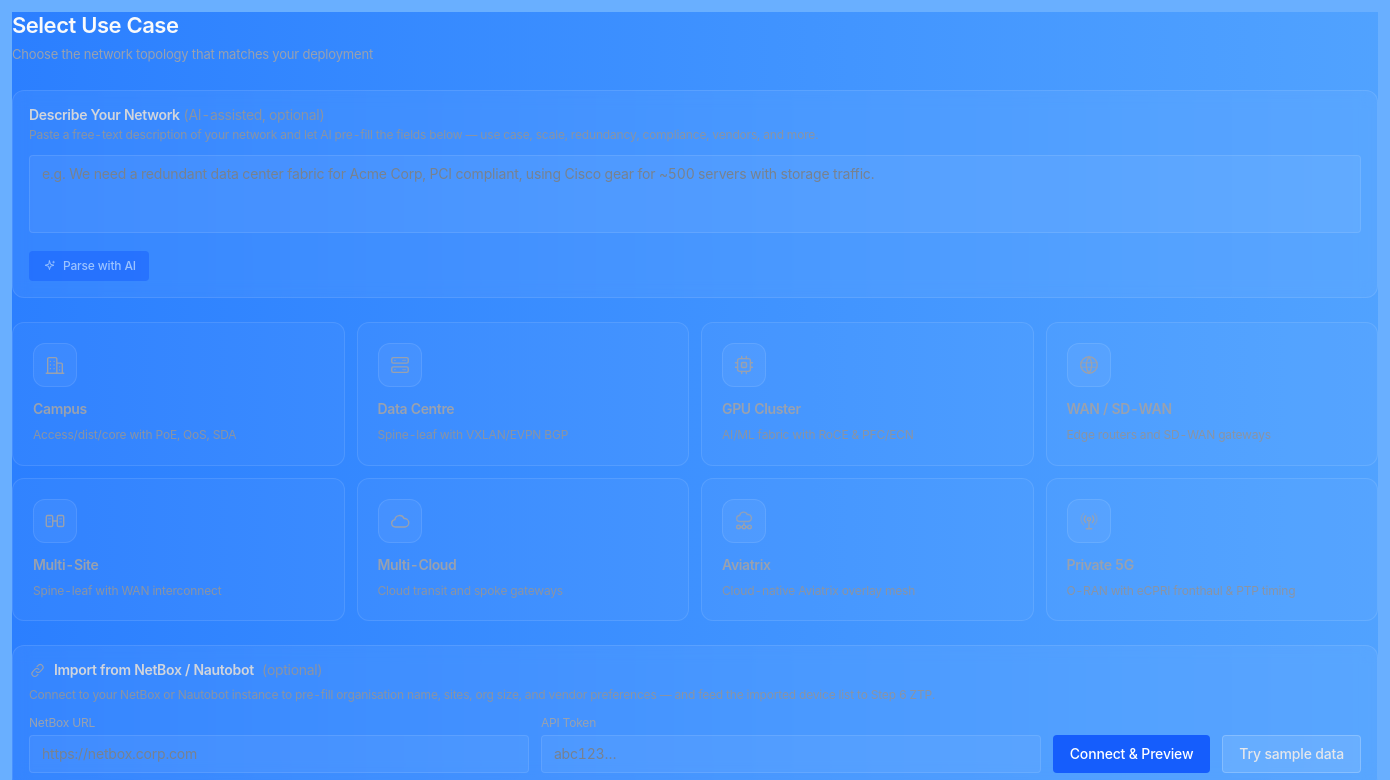
Test: Step1UseCase — AI intent parser (G-A1) › parses free text via the API and populates Step 1 store fields
The width and height of the screenshot is (1390, 780).
Replace the text in the text box with placeholder "redundant data center fabric" with "A redundant DC for Acme Corp, PCI compliant, Cisco gear, storage traffic." at coordinates (695, 194), box x1=29 y1=155 x2=1361 y2=233
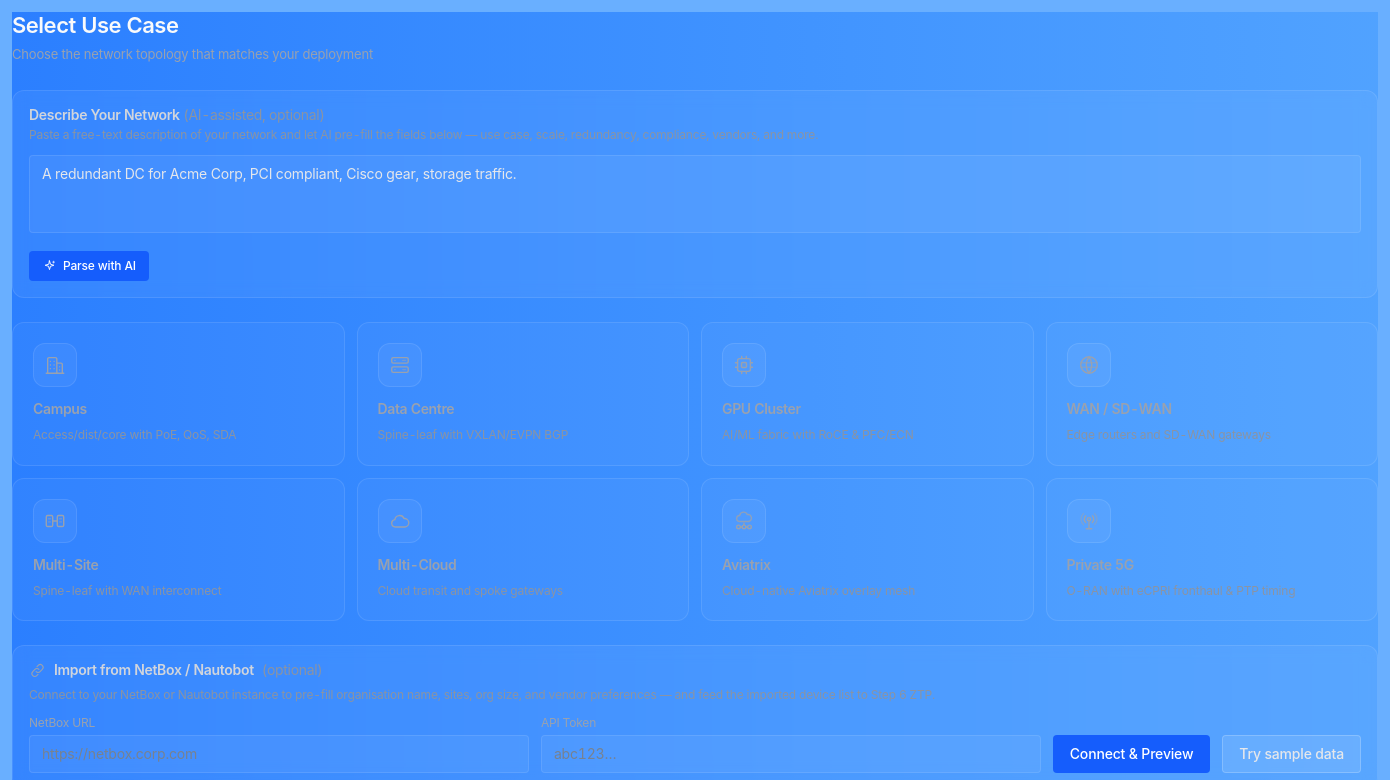
Check: the button "Parse with AI" is enabled
Click the button "Parse with AI" at coordinates (89, 266), box x1=29 y1=251 x2=149 y2=281
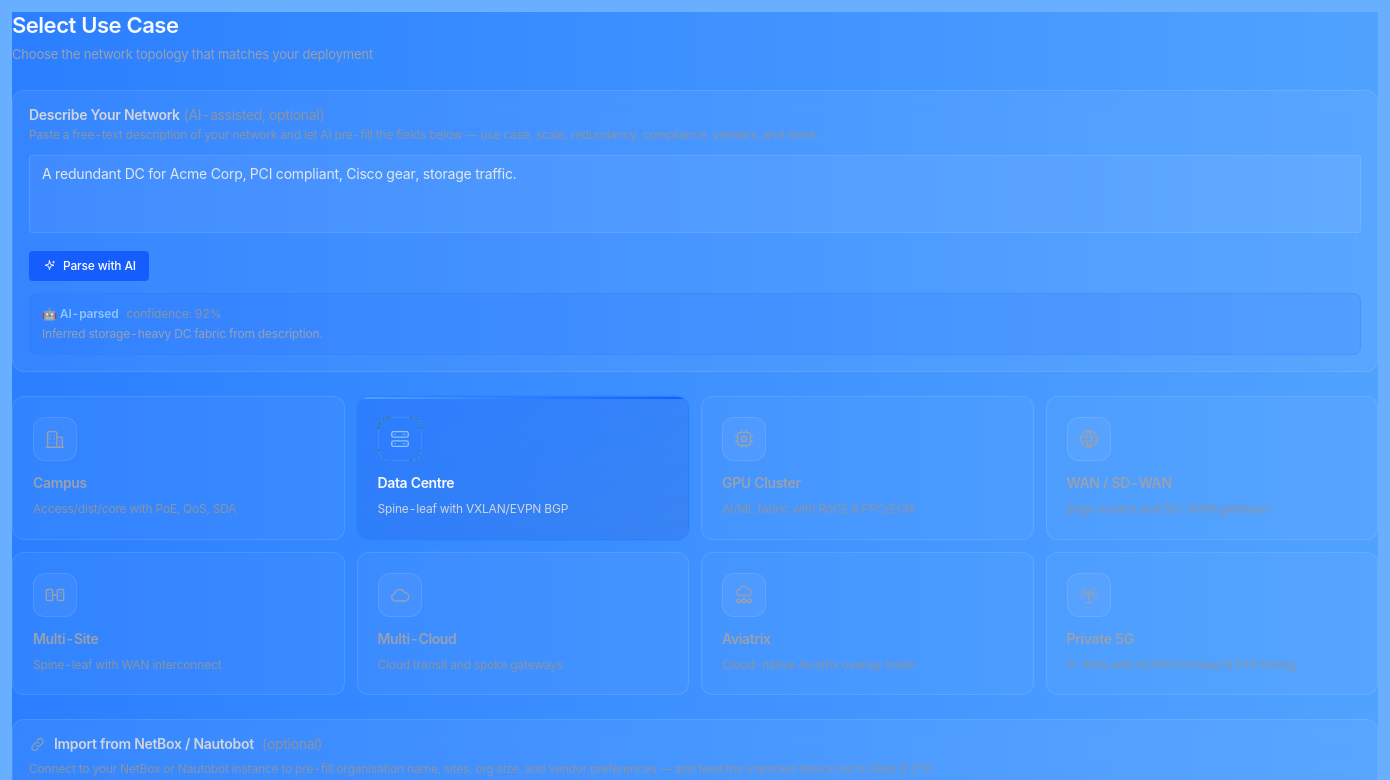
Check: the text "🤖 AI-parsed" is shown, box x1=42 y1=306 x2=118 y2=322
Check: the text "confidence: 92%" is shown, box x1=126 y1=306 x2=221 y2=322
Check: the text "Inferred storage-heavy DC fabric from description." is shown, box x1=42 y1=326 x2=322 y2=341
